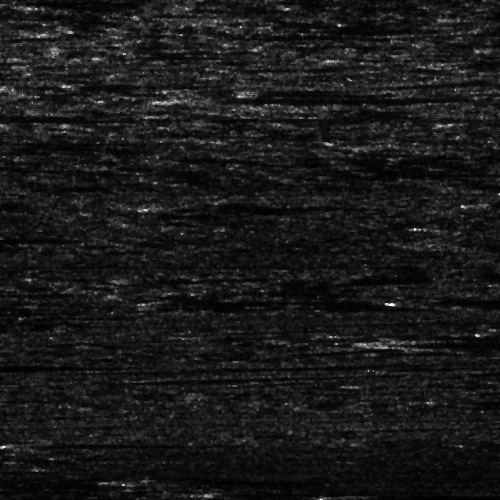object: (299, 333, 496, 350), (59, 467, 194, 490), (151, 481, 286, 500), (150, 93, 243, 102), (214, 85, 267, 94), (127, 203, 190, 208), (0, 440, 60, 445)
shadow: (127, 467, 484, 490), (218, 481, 500, 500), (197, 93, 440, 102), (398, 333, 500, 350), (241, 85, 426, 94), (159, 203, 344, 208), (0, 392, 67, 405), (28, 440, 202, 445), (0, 234, 65, 243), (0, 109, 42, 120), (0, 72, 18, 79)
